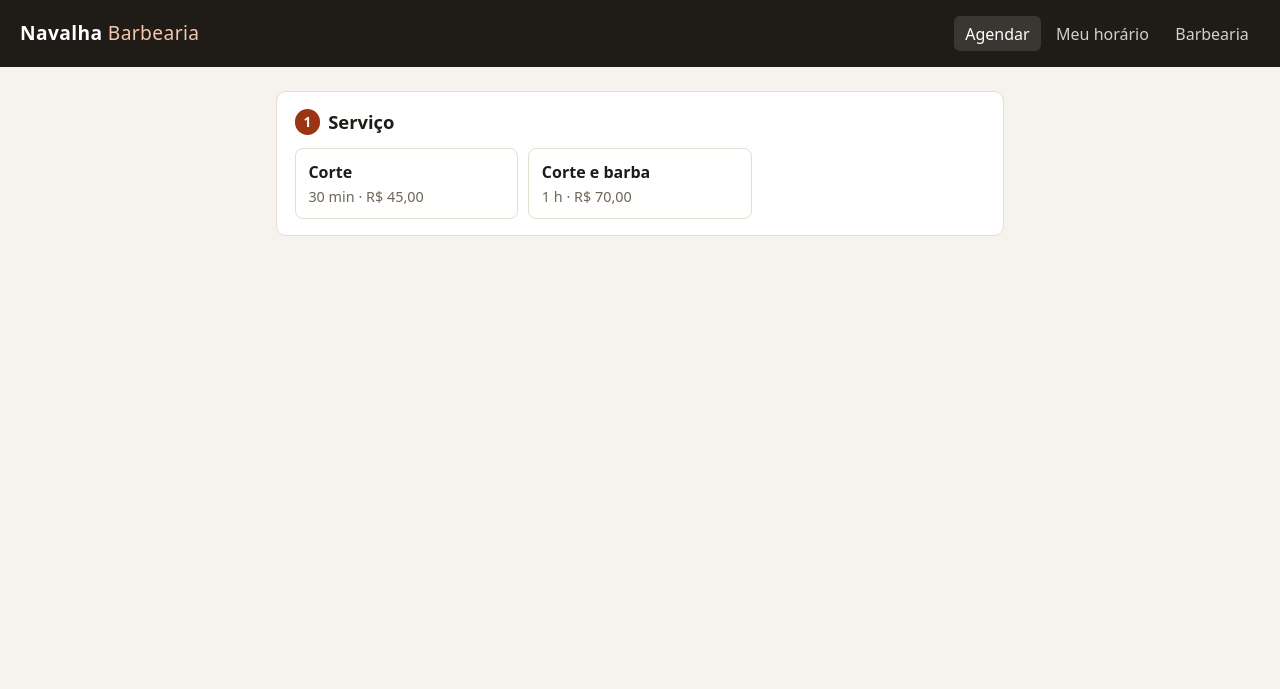
Scenario: marcar horário › mostra a mensagem de cada campo que a API recusou
Click the button "Corte 30 min · R$ 45,00" at (407, 184), box [295,148,518,219]
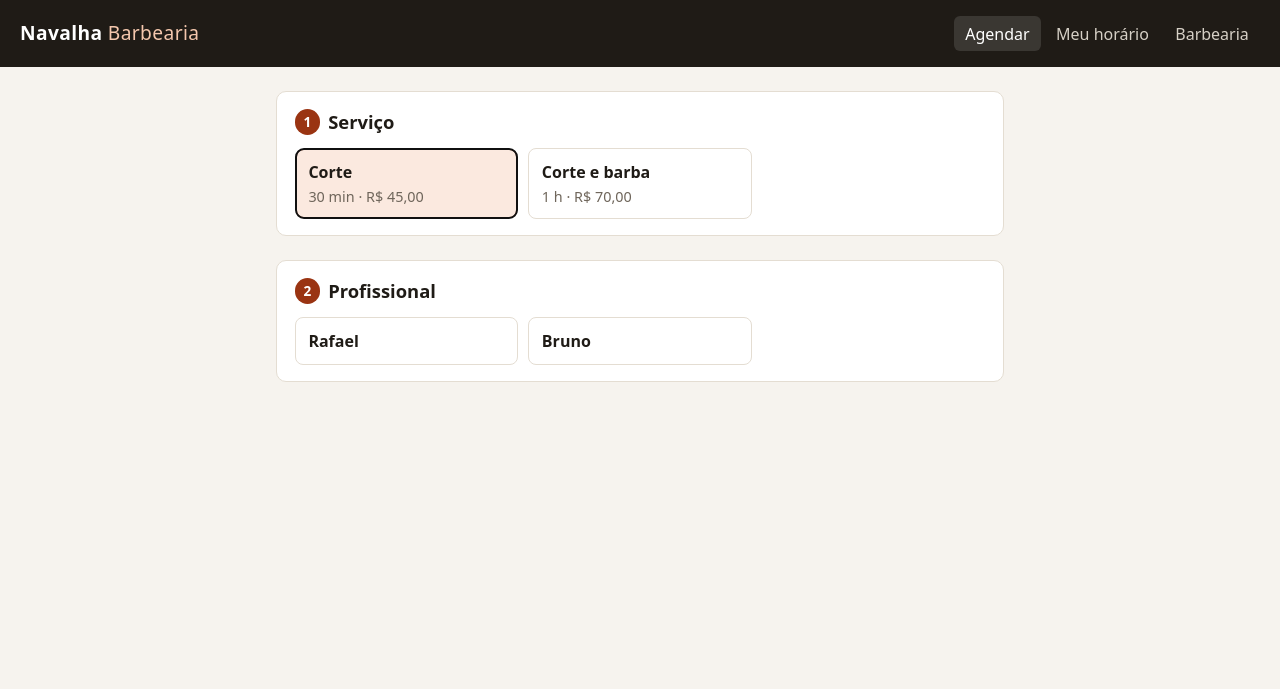
Click the button "Rafael" at (407, 341), box [295,317,518,365]
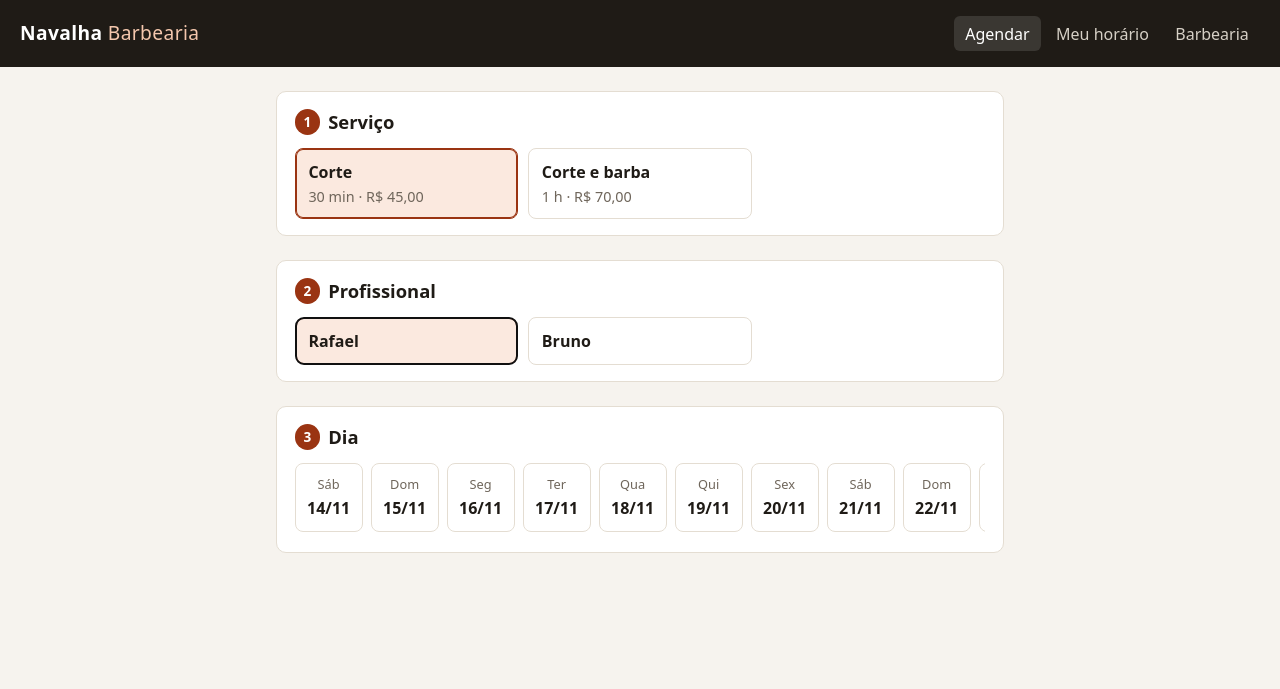
Click the button "dom 15/11" at (405, 498), box [371,463,439,532]
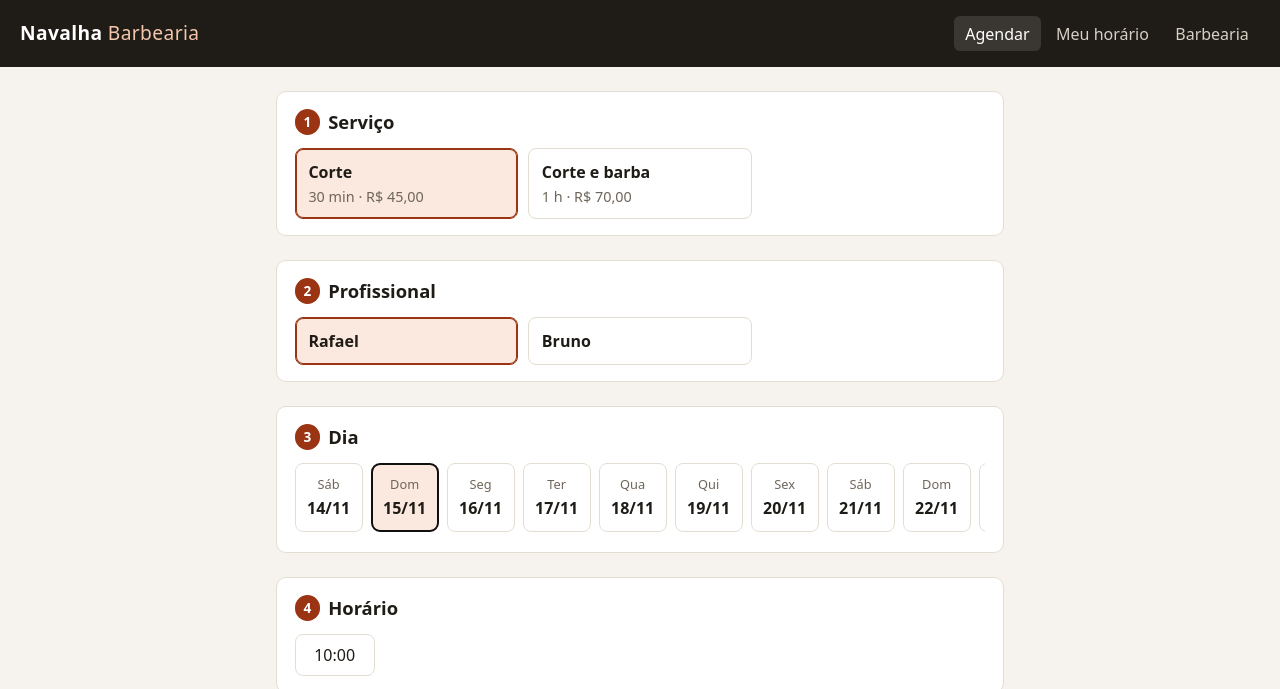
Click the button "10:00" at (335, 655), box [295,634,375,676]
(page scrolled)
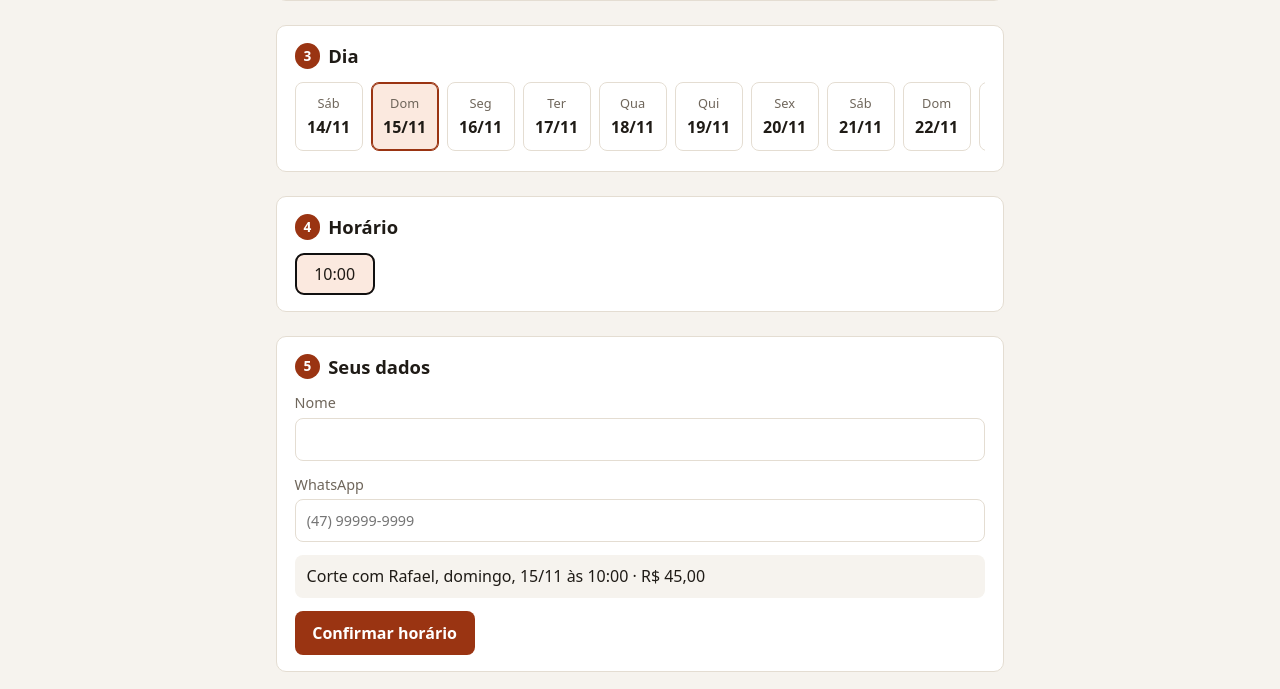
Type "Lobo" into the field labelled "Nome" at (640, 439), box [295,418,985,461]
Type "123" into the field labelled "WhatsApp" at (640, 520), box [295,499,985,542]
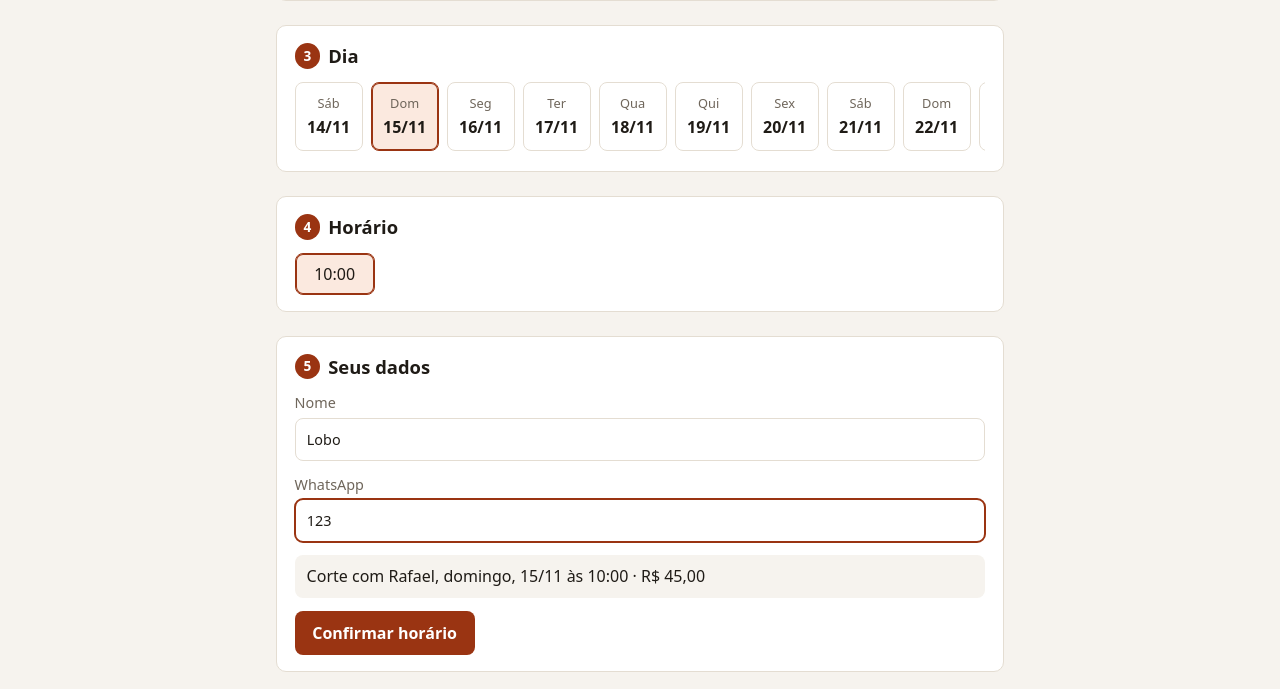
Click the button "Confirmar horário" at (385, 633), box [295,611,475,656]
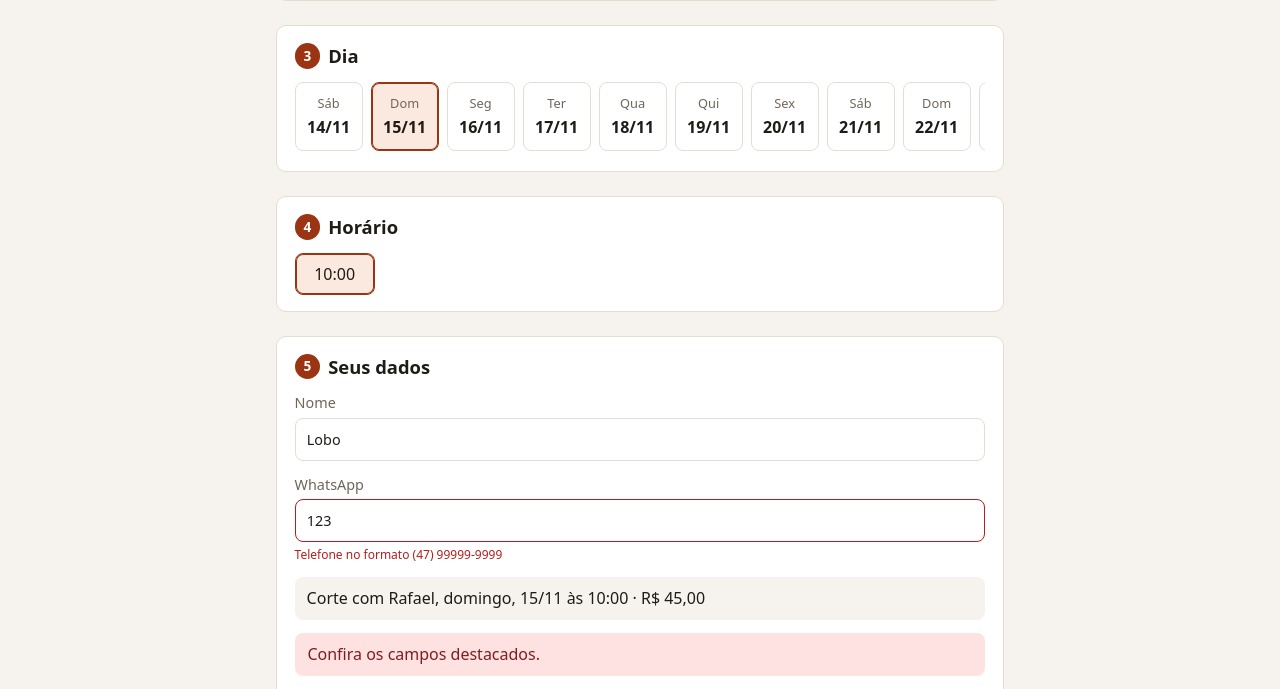
Result: the text "Telefone no formato (47) 99999-9999" is shown at [295,546,502,563]
